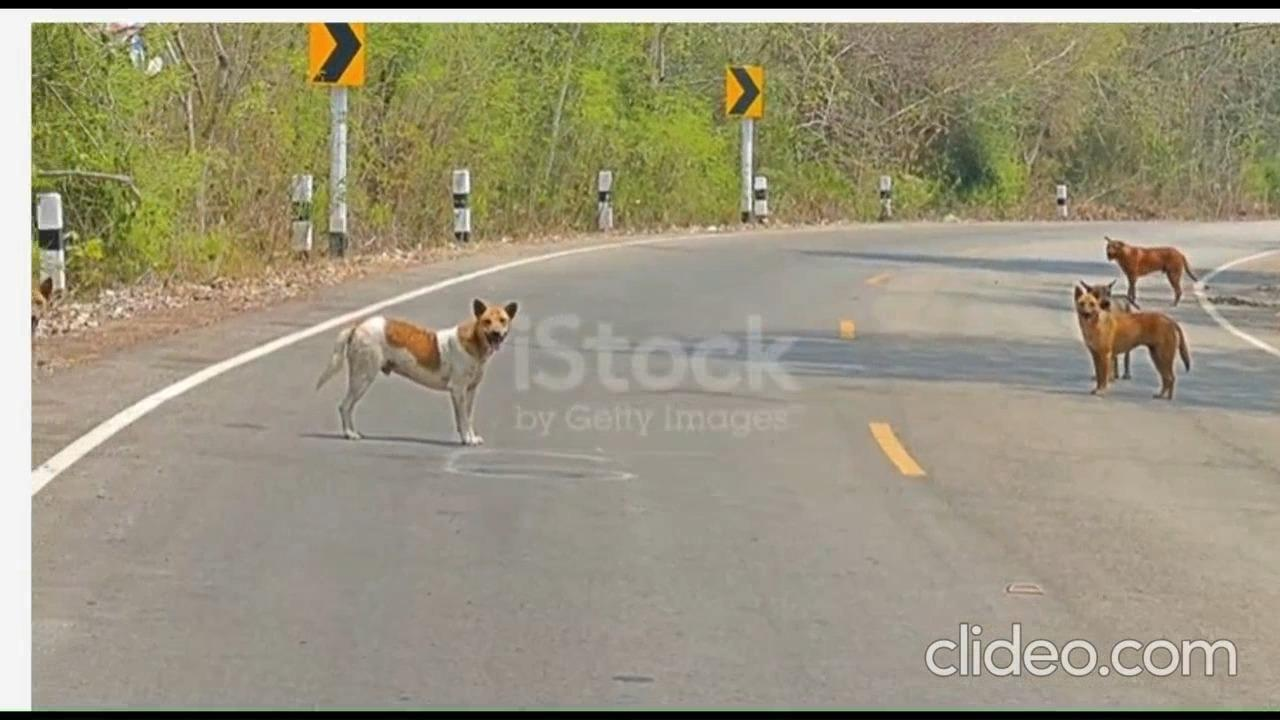dog: (320, 291, 514, 446), (1069, 280, 1194, 407), (1099, 232, 1199, 305)
